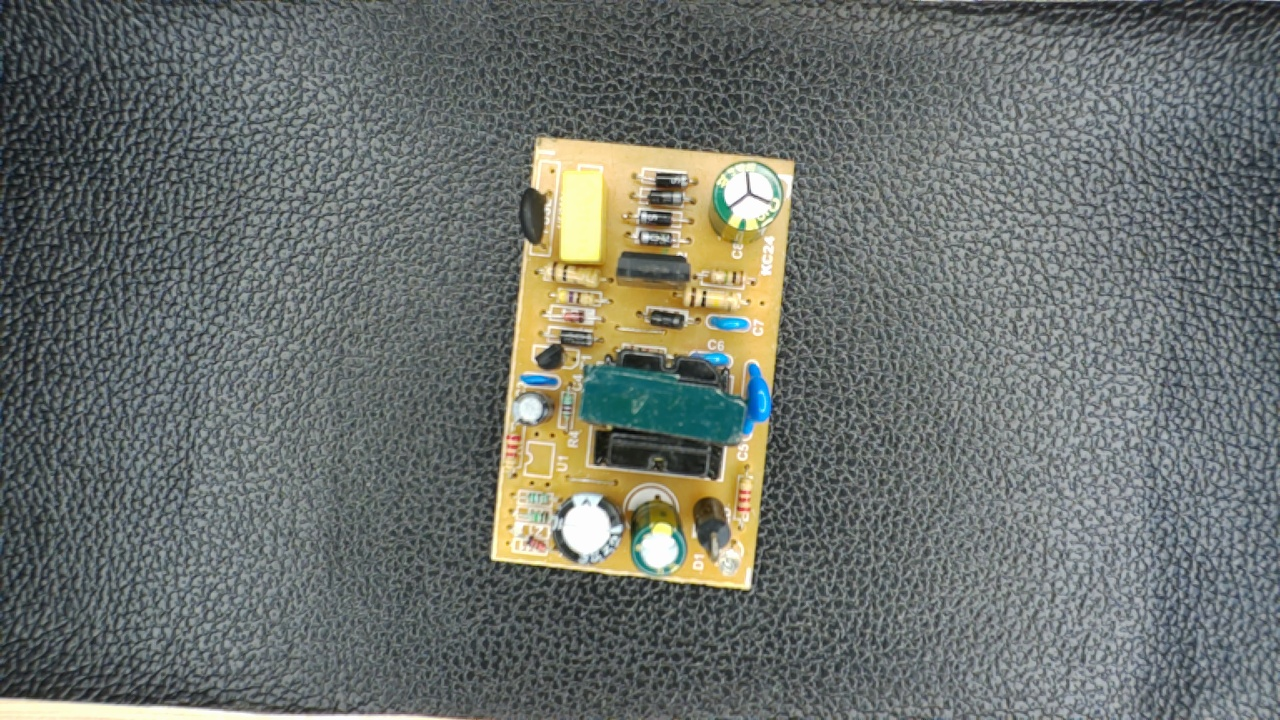fuse: (515, 174, 554, 257)
hv_capacitor: (705, 159, 782, 242)
mov: (738, 360, 773, 449)
